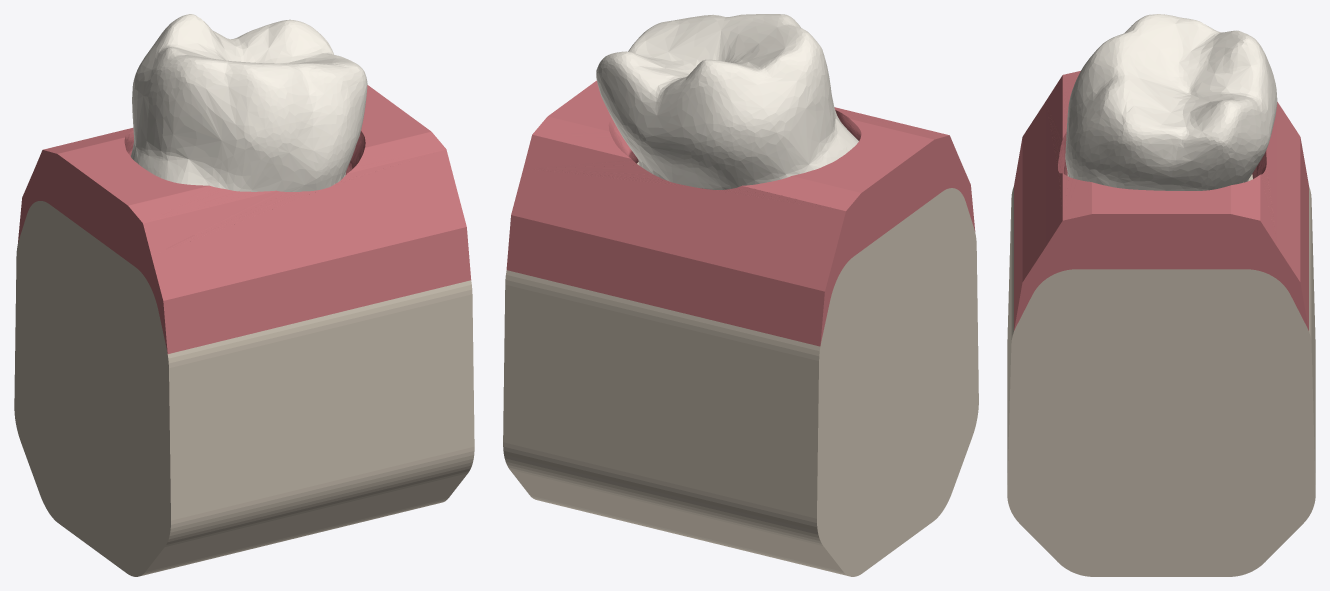
File: healthy.glb
3 views of the same model, side by side, from view 1: azimuth 30°, elevation 25°; view 2: azimuth 150°, elevation 25°; view 3: azimuth 270°, elevation 25° (orthographic). The views are drawn at different scales.
Visible parts, largest first — view 1: bone, gum, teeth; view 2: bone, gum, teeth; view 3: bone, gum, teeth.
Part boxes in pixels (<box>): bone: <box>14,201,474,576</box>; gum: <box>18,85,471,353</box>; teeth: <box>130,14,367,191</box>; bone: <box>503,162,978,576</box>; gum: <box>506,80,975,346</box>; teeth: <box>596,14,858,189</box>; bone: <box>1007,173,1315,576</box>; gum: <box>1014,71,1308,330</box>; teeth: <box>1065,14,1277,190</box>.
Bounding box in the file's own units: 0.0142 × 0.0209 × 0.0127.
